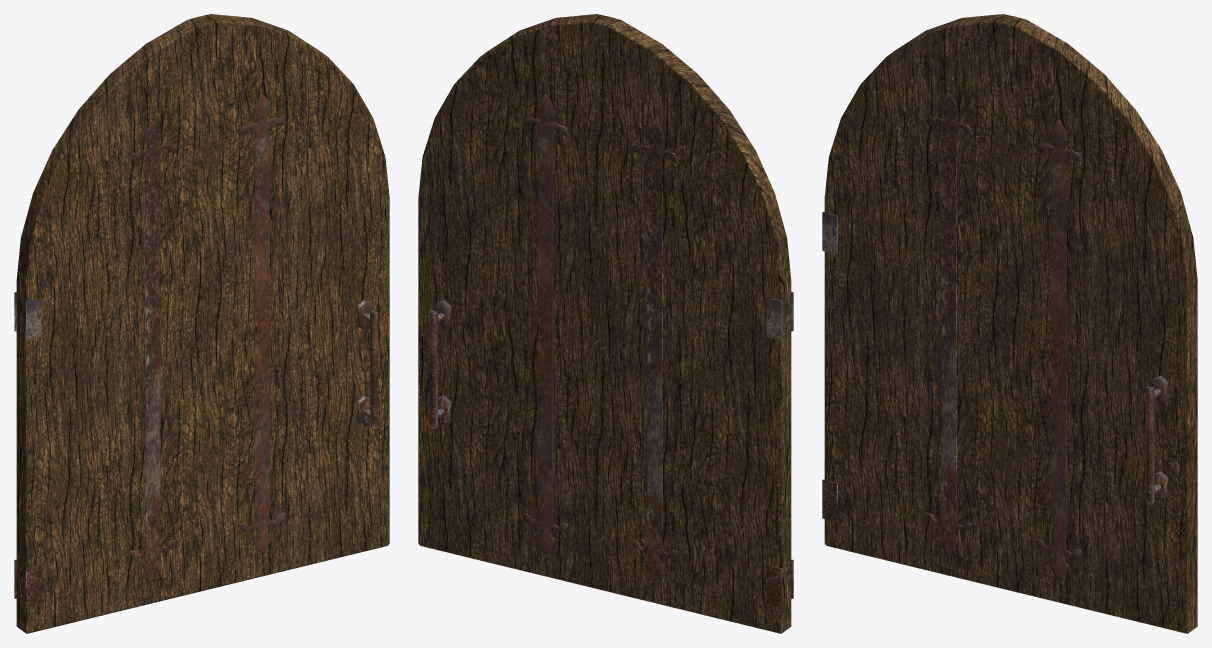
The model's file is Tuer.gltf.
The picture shows the model from 3 angles, left to right: view 1: azimuth 30°, elevation 25°; view 2: azimuth 150°, elevation 25°; view 3: azimuth 330°, elevation 25°; orthographic projection.
Parts seen in each view (by area): view 1: Tuer; view 2: Tuer; view 3: Tuer.
Part boxes in pixels (left/top/right/bottom): Tuer: left=14, top=14, right=389, bottom=633; Tuer: left=418, top=14, right=793, bottom=633; Tuer: left=822, top=14, right=1197, bottom=633.
Bounding box in the file's own units: 2 × 2.97 × 0.3397.
Materials: 2 (2 with a texture image).
